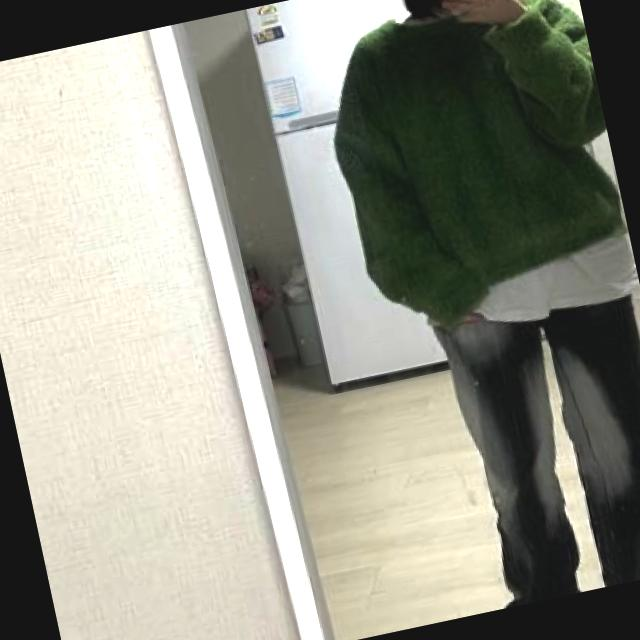denimpants: (428, 268, 640, 610)
sweater: (309, 0, 638, 336)
